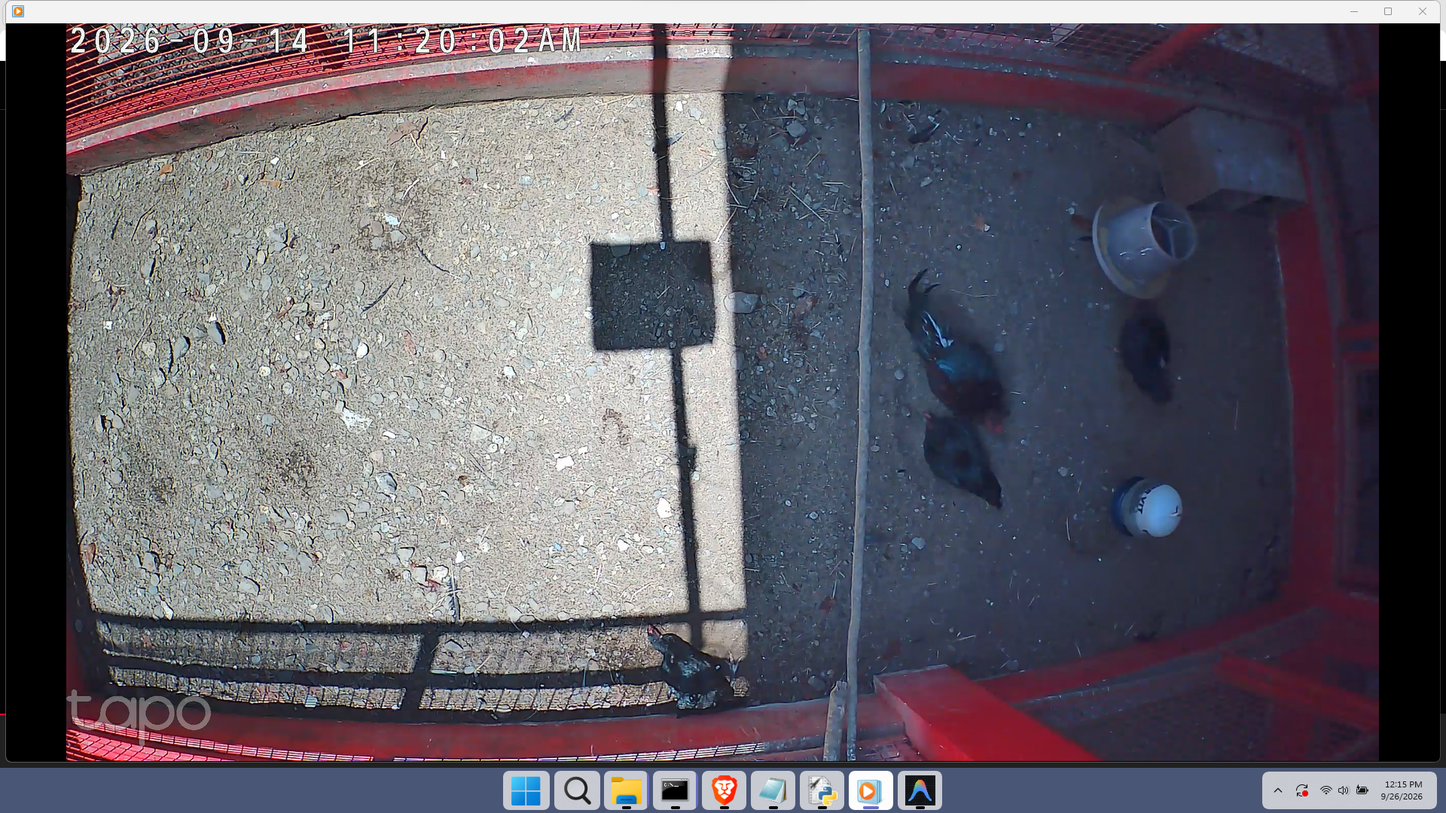Chicken: (913, 408, 1013, 517), (644, 620, 744, 717), (1108, 294, 1186, 414)
Drinker: (1109, 474, 1189, 542)
Feeder: (1088, 186, 1198, 302)
Leg_Band_Pink: (1113, 347, 1117, 351)
Rooster: (902, 265, 1012, 451)
